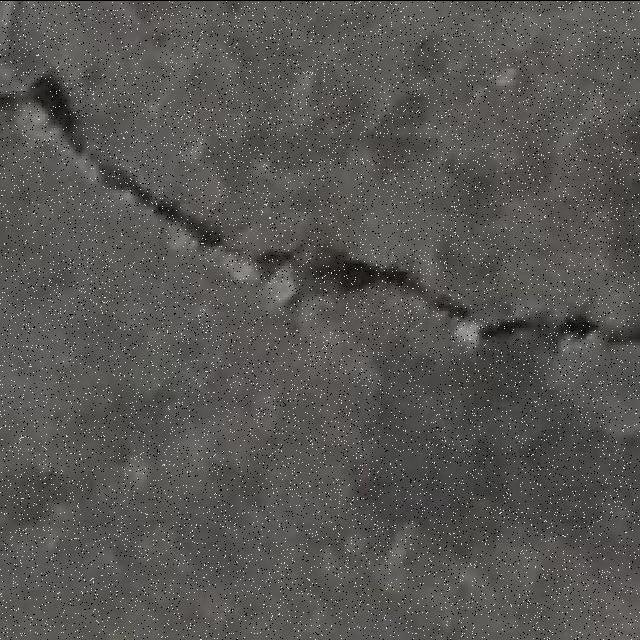crack: (210, 202, 640, 366), (331, 19, 582, 185), (365, 387, 640, 524), (7, 377, 188, 535), (97, 163, 230, 246), (1, 71, 88, 157), (8, 465, 77, 528)
